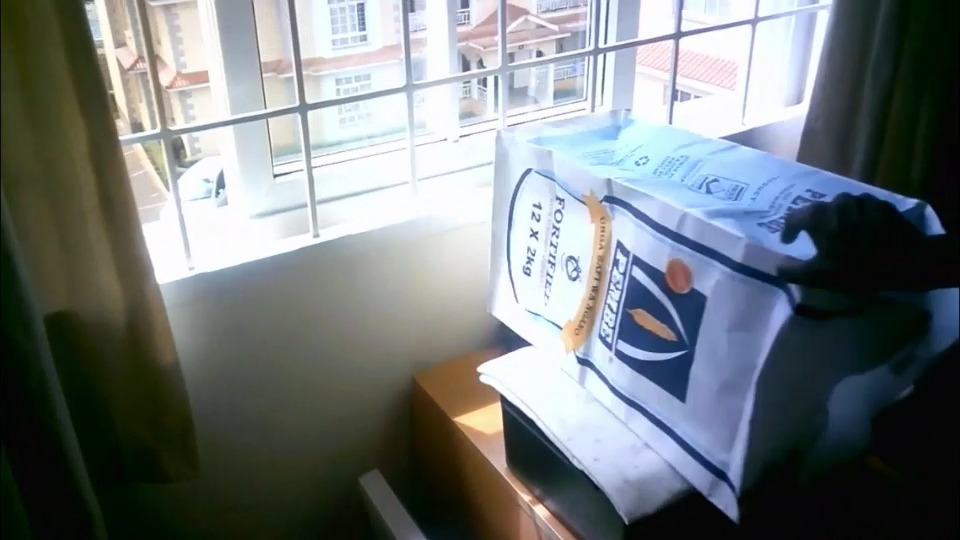wheat_flour_blue_label: (491, 109, 950, 523)
